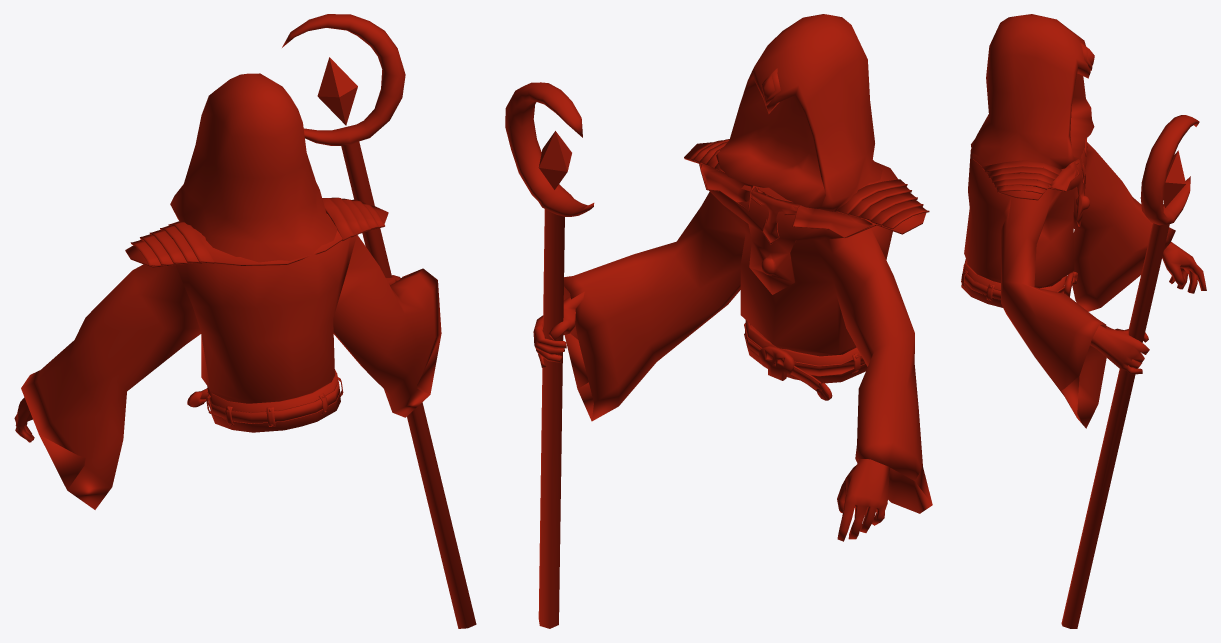
The model's file is top_000039.obj.
3 views of the same model, side by side, from view 1: azimuth 30°, elevation 25°; view 2: azimuth 150°, elevation 25°; view 3: azimuth 270°, elevation 25° (orthographic). The views are drawn at different scales.
Parts seen in each view (by area): view 1: LowPoly_Warlock.000_Plane.005; view 2: LowPoly_Warlock.000_Plane.005; view 3: LowPoly_Warlock.000_Plane.005.
Boxes of the visible parts, x1,y1,x2,y2 form: LowPoly_Warlock.000_Plane.005: (14, 14, 476, 628); LowPoly_Warlock.000_Plane.005: (505, 14, 932, 628); LowPoly_Warlock.000_Plane.005: (961, 14, 1206, 628).
Size of the model in its own units: 1.34 by 1.99 by 0.858.
